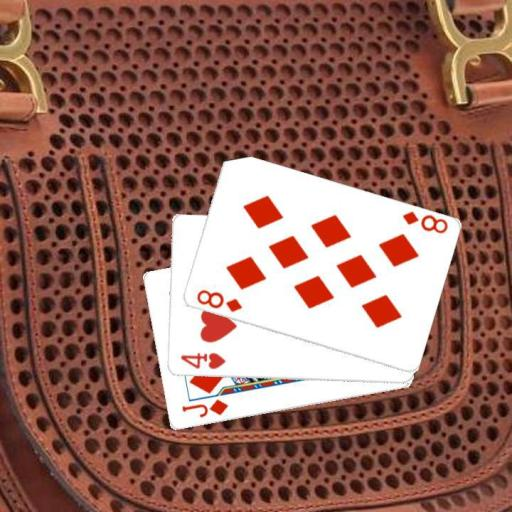4H: (177, 350, 226, 371)
8D: (193, 287, 244, 314), (399, 209, 450, 236)
JD: (179, 396, 230, 420)
